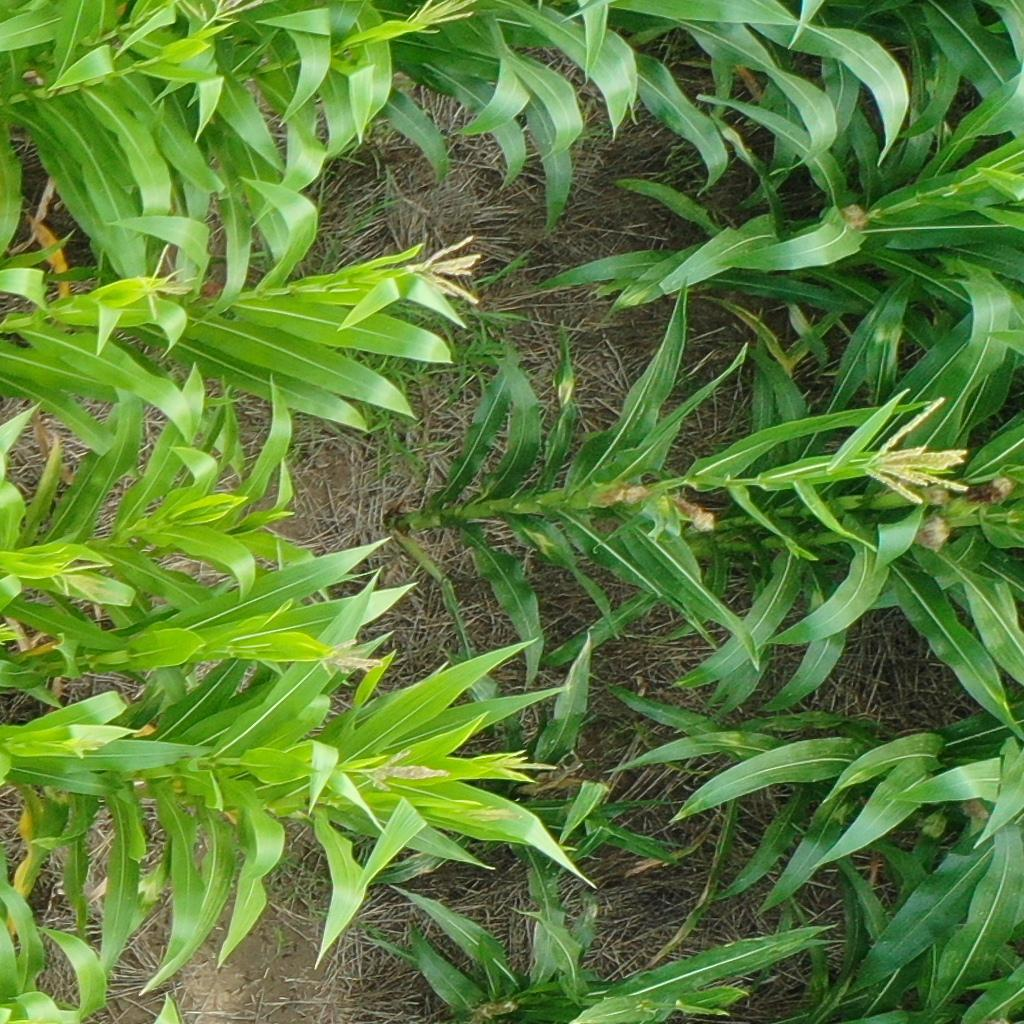Tassel: (865, 393, 973, 508), (407, 234, 485, 306), (138, 241, 199, 310), (362, 749, 448, 790), (315, 636, 390, 682), (53, 558, 115, 607), (485, 748, 556, 786), (404, 1, 478, 33), (205, 1, 265, 28), (461, 803, 523, 829), (63, 731, 107, 763), (1, 619, 27, 648)
